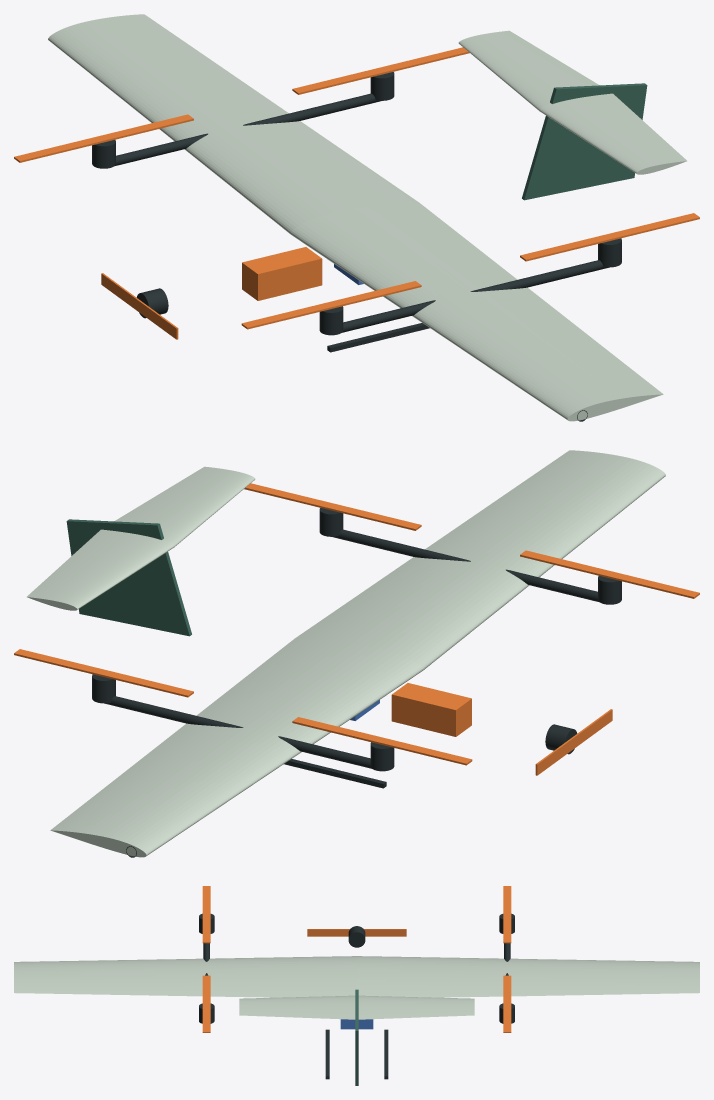
Rendered from 01-internal.glb.
The picture shows the model from 3 angles, top to bottom: view 1: azimuth 30°, elevation 25°; view 2: azimuth 150°, elevation 25°; view 3: azimuth 270°, elevation 25°; orthographic projection. The views are drawn at different scales.
Visible parts, largest first — view 1: wing-1, wing1, fin, tail-1, tail1, battery, boom-1, boom1, prop_-1_130.0, prop_-1_780.0, prop_1_130.0, prop_1_780.0 (+4 smaller); view 2: wing1, wing-1, fin, tail1, tail-1, battery, boom1, boom-1, prop_1_130.0, prop_1_780.0, prop_-1_130.0, prop_-1_780.0 (+4 smaller); view 3: wing-1, wing1, tail-1, tail1, cruise_prop, prop_-1_130.0, prop_-1_780.0, prop_1_130.0, prop_1_780.0, fin, payload, cruise_motor.
Part boxes in pixels (x1,y1,x2,y2): wing-1: [290, 202, 663, 421]; wing1: [48, 14, 418, 234]; fin: [522, 83, 647, 200]; tail-1: [539, 93, 686, 174]; tail1: [458, 30, 599, 110]; battery: [242, 247, 322, 300]; boom-1: [342, 260, 609, 332]; boom1: [114, 93, 380, 166]; prop_-1_130.0: [241, 281, 421, 329]; prop_-1_780.0: [520, 213, 699, 261]; prop_1_130.0: [14, 114, 193, 162]; prop_1_780.0: [292, 47, 469, 94]; wing1: [50, 638, 423, 857]; wing-1: [295, 450, 665, 670]; fin: [66, 519, 191, 636]; tail1: [27, 529, 174, 610]; tail-1: [114, 466, 255, 546]; battery: [391, 683, 471, 736]; boom1: [104, 696, 371, 768]; boom-1: [333, 529, 599, 602]; prop_1_130.0: [292, 717, 472, 765]; prop_1_780.0: [14, 649, 193, 697]; prop_-1_130.0: [520, 550, 699, 598]; prop_-1_780.0: [244, 483, 421, 530]; wing-1: [14, 956, 356, 997]; wing1: [357, 956, 699, 997]; tail-1: [239, 995, 355, 1019]; tail1: [358, 995, 474, 1019]; cruise_prop: [307, 929, 406, 936]; prop_-1_130.0: [202, 886, 210, 943]; prop_-1_780.0: [202, 975, 210, 1032]; prop_1_130.0: [503, 886, 511, 943]; prop_1_780.0: [503, 975, 511, 1032]; fin: [355, 989, 358, 1085]; payload: [340, 1019, 373, 1029]; cruise_motor: [348, 926, 365, 947].
Size of the model in its own units: 1203 by 415 by 2100.
